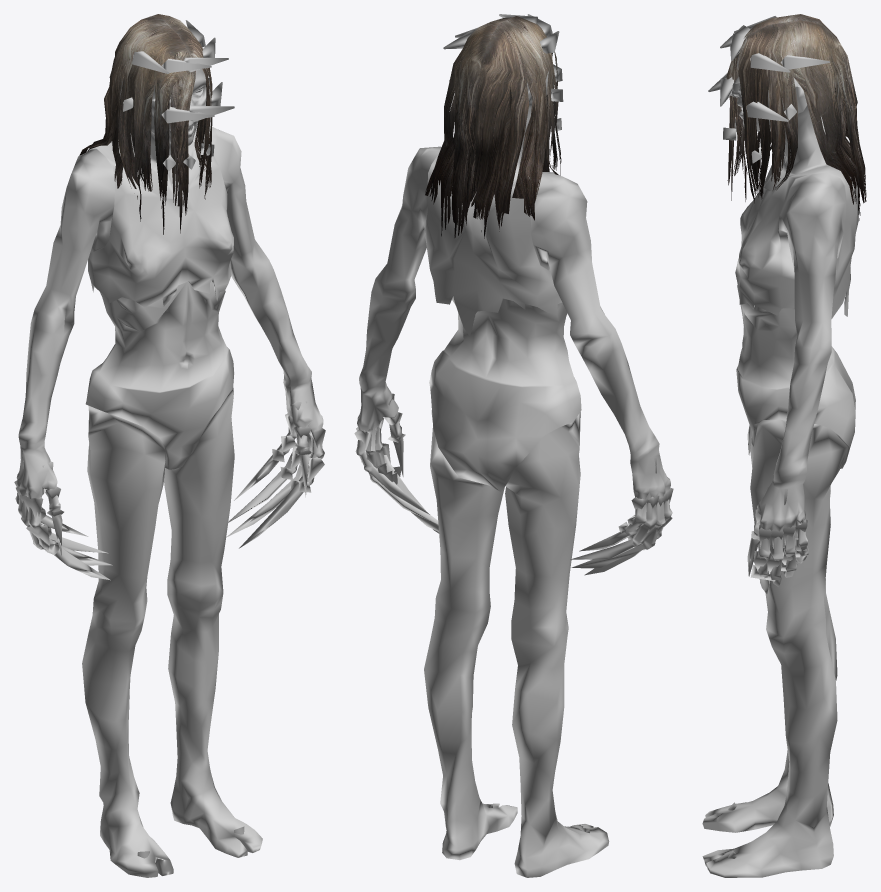
Rendered from Witch.obj.
The picture shows the model from 3 angles, left to right: view 1: azimuth 30°, elevation 25°; view 2: azimuth 150°, elevation 25°; view 3: azimuth 270°, elevation 25°; orthographic projection. The views are drawn at different scales.
Visible parts, largest first — view 1: (null); view 2: (null); view 3: (null).
Part boxes in pixels (box(x1,y1,x2,y2)): (null): box(14, 14, 325, 877); (null): box(354, 14, 673, 877); (null): box(702, 14, 866, 877).
Size of the model in its own units: 26.18 by 68.41 by 12.28.
